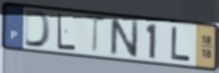1: (144, 22, 158, 60)
D: (23, 8, 53, 50)
L: (170, 25, 193, 62), (56, 12, 77, 52)
N: (109, 17, 140, 60)
T: (84, 13, 108, 56)
